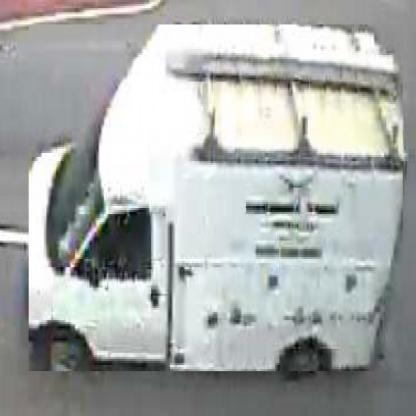truck: (29, 26, 404, 374)
